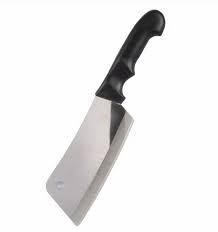Knife: (45, 8, 165, 226)
